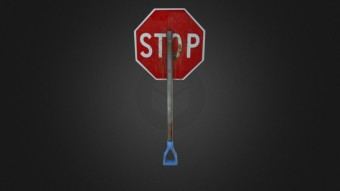SS: (132, 6, 205, 79)
